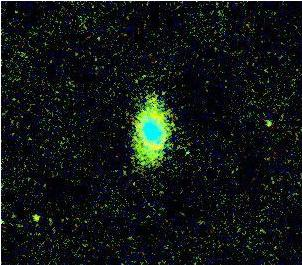star: (251, 112, 281, 142)
